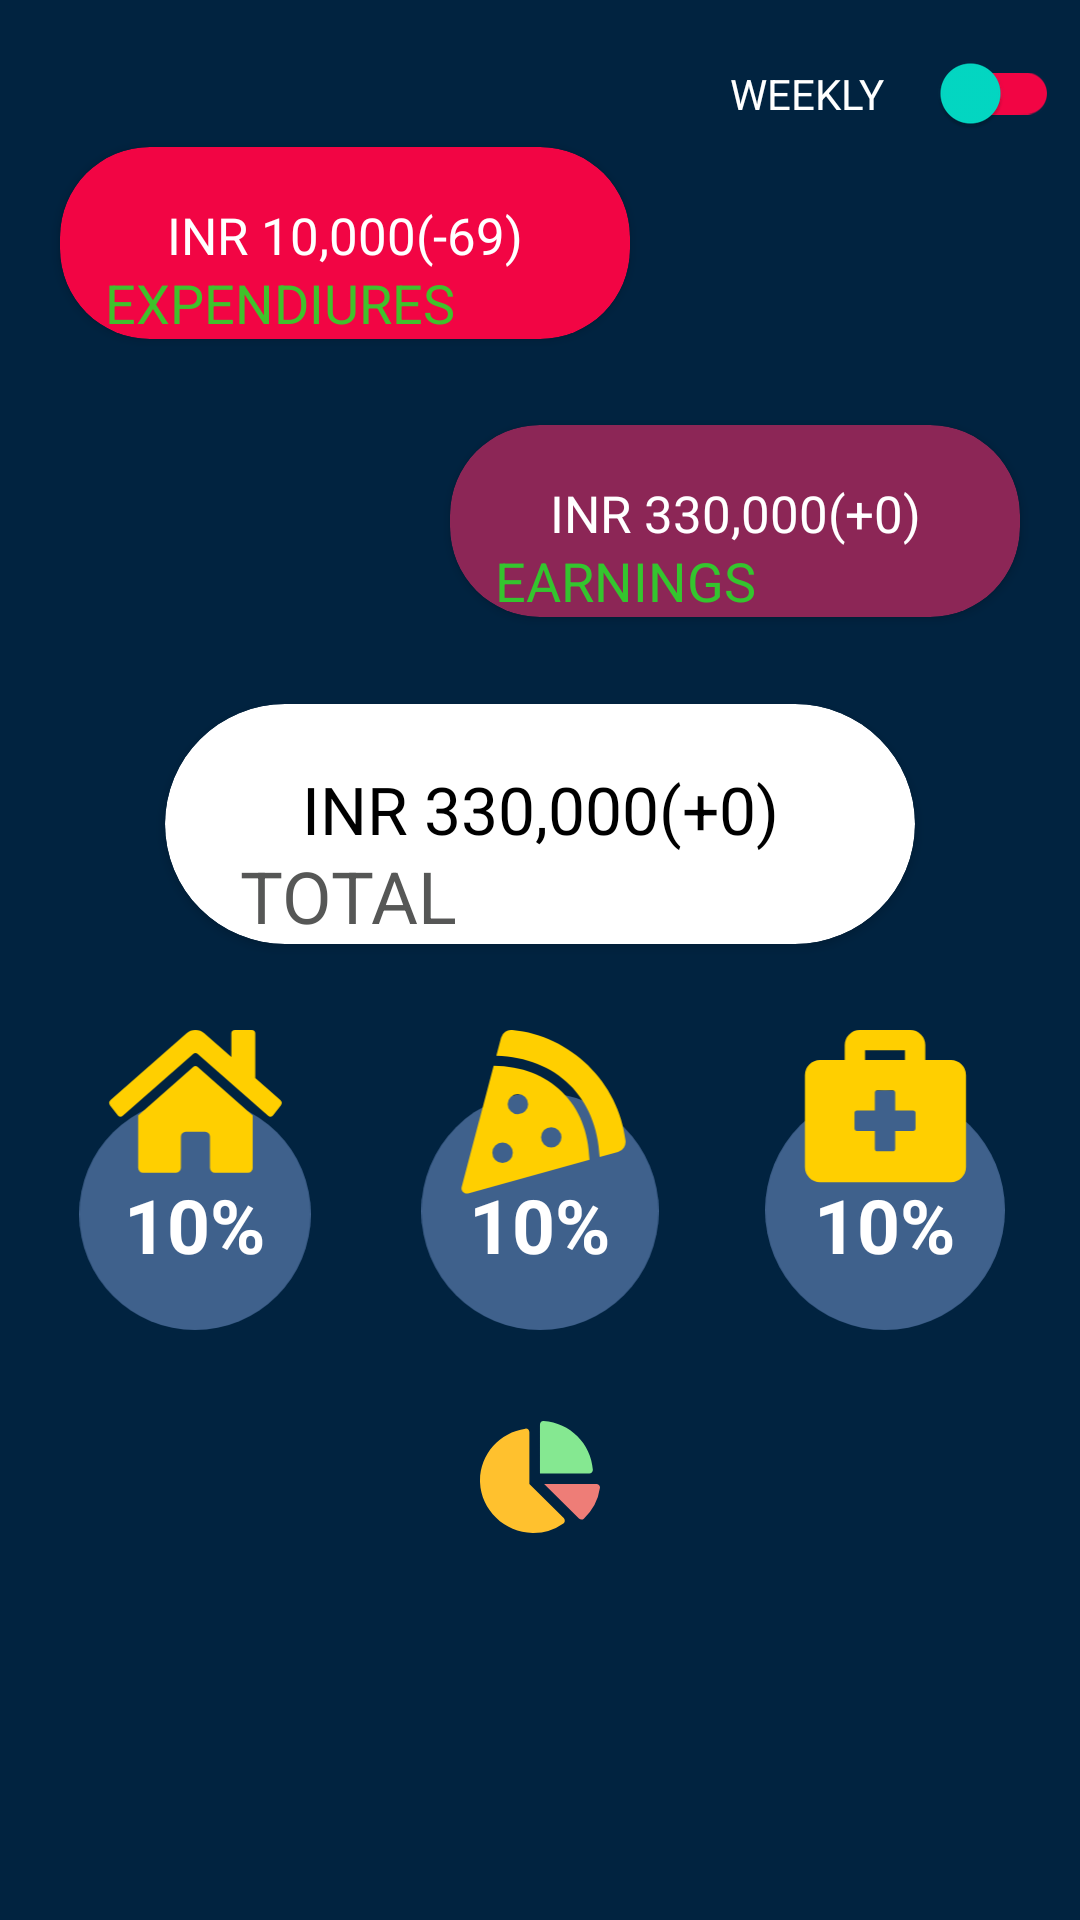

Where to tap for icons on this 1080w x 1920h app screen, as (x,y):
food circle: (540,1180)
housing circle: (195,1180)
medication cicle: (885,1180)
piechart: (540,1477)
